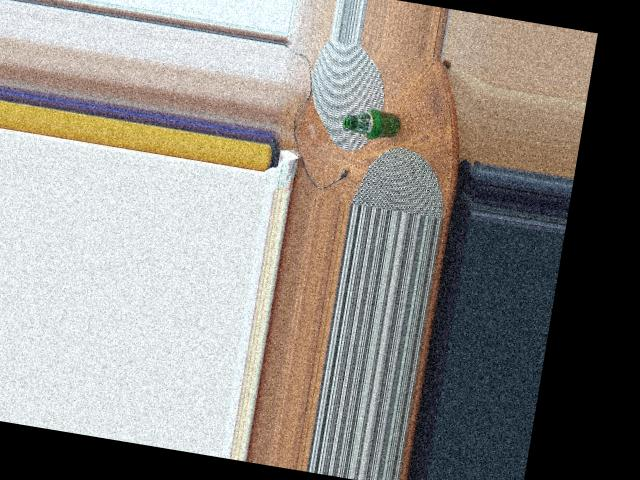beer: (340, 104, 402, 142)
